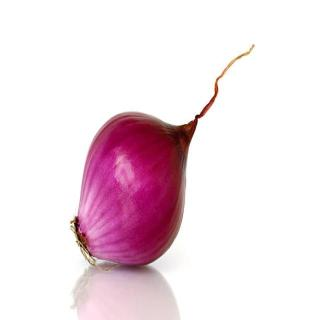Bawang Merah: (70, 108, 201, 273)
